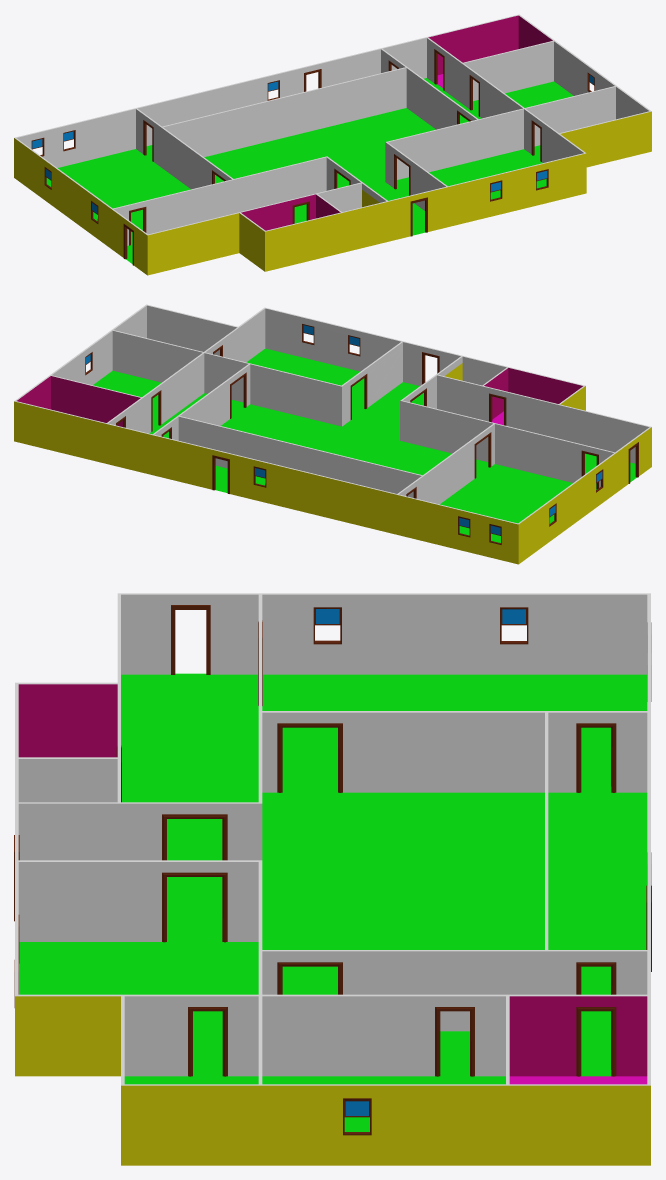
Rendered from home.fbx.
3 renders of one model, top to bottom at view 1: azimuth 30°, elevation 25°; view 2: azimuth 150°, elevation 25°; view 3: azimuth 270°, elevation 25°, orthographic. The views are drawn at different scales.
Visible parts, largest first — view 1: Cube.009; view 2: Cube.009; view 3: Cube.009.
Part boxes in pixels (x1,y1,x2,y2): Cube.009: [14, 14, 651, 275]; Cube.009: [14, 304, 651, 564]; Cube.009: [14, 593, 651, 1165].
Bounding box in the file's own units: 6607 × 500 × 3612.
